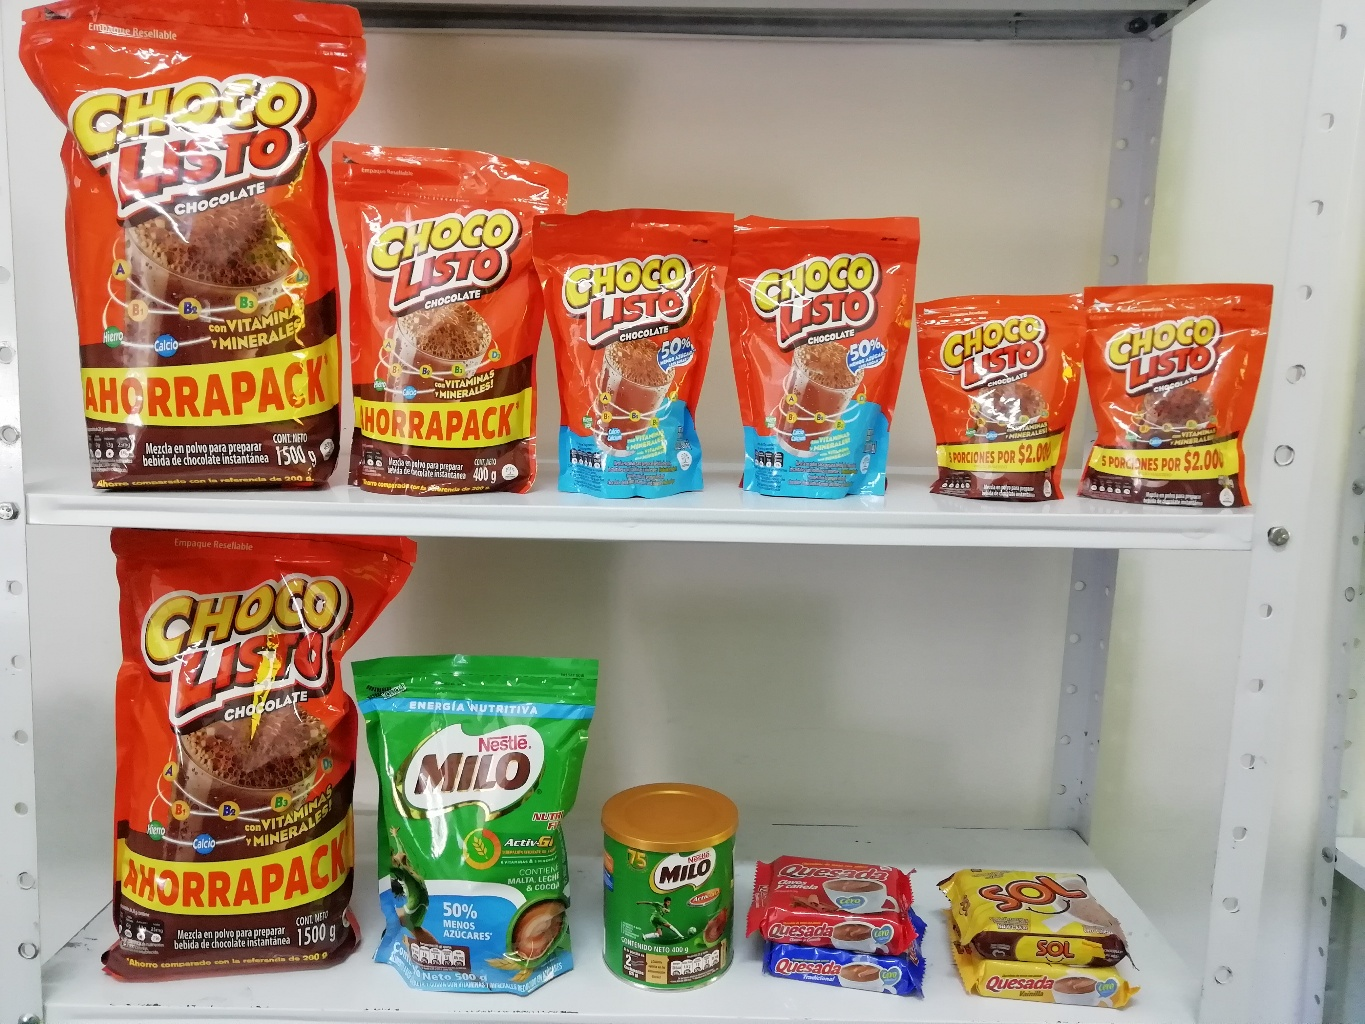COL0170103DYP1,500: (19, 0, 371, 489)
COL0170103DYP10000: (1080, 278, 1275, 510)
COL0170103DYP40000: (330, 136, 570, 497)
COL0170104DYP20000: (722, 215, 929, 497)
COL0170203LAT40000: (585, 771, 747, 1001)
COL0170205DYP50000: (353, 636, 599, 995)
